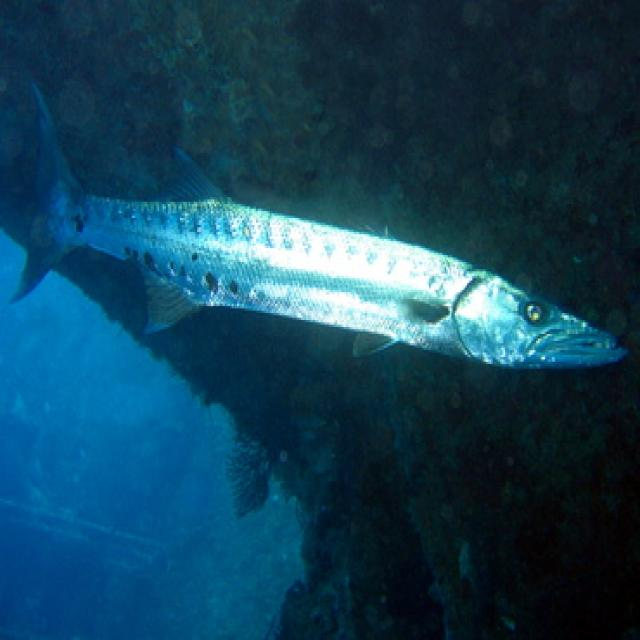Barracuda: (4, 76, 632, 374)
